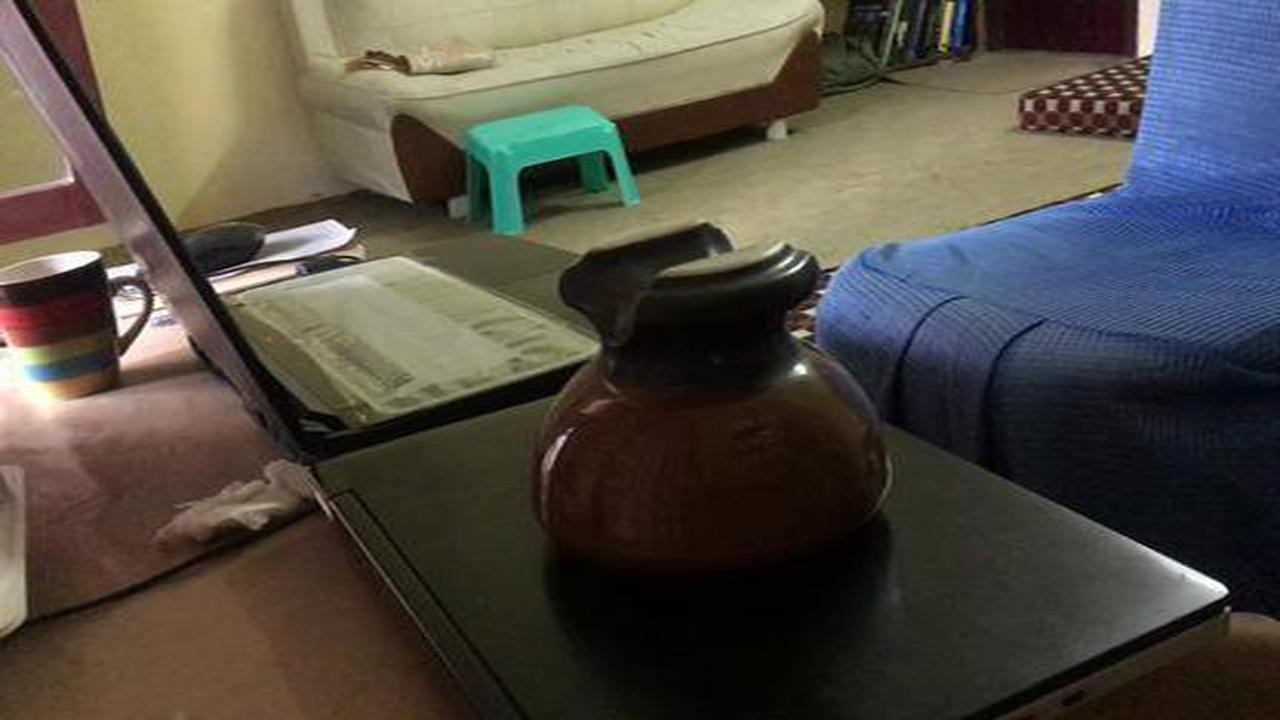insulator_pin: (521, 224, 911, 580)
